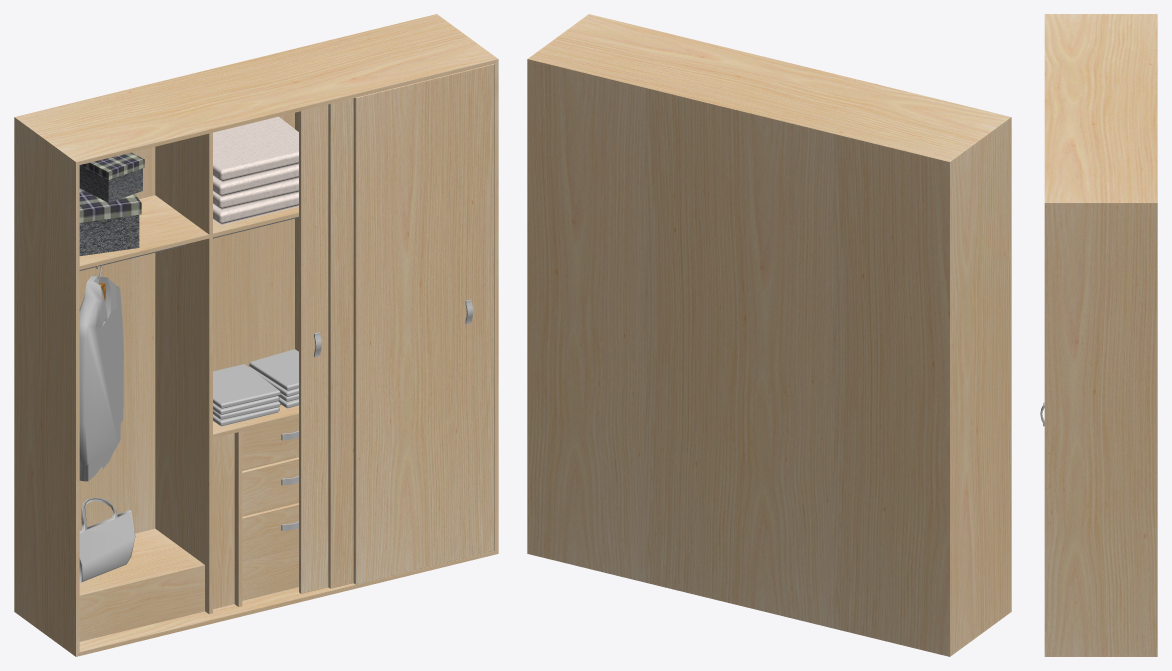
Rendered from Closet02.fbx.
3 renders of one model, left to right at view 1: azimuth 30°, elevation 25°; view 2: azimuth 150°, elevation 25°; view 3: azimuth 270°, elevation 25°, orthographic. The views are drawn at different scales.
Visible parts, largest first — view 1: polySurface28, polySurface27, polySurface26, polySurface20, polySurface29, polySurface19, polySurface11, polySurface30, polySurface44, polySurface12, polySurface22, polySurface33 (+16 smaller); view 2: polySurface28; view 3: polySurface28.
Part boxes in pixels (x1,y1,x2,y2): polySurface28: (14,14,498,656); polySurface27: (353,64,494,584); polySurface26: (79,113,294,533); polySurface20: (155,132,212,614); polySurface29: (299,104,328,593); polySurface19: (328,98,353,588); polySurface11: (79,528,204,641); polySurface30: (79,275,123,481); polySurface44: (213,116,298,182); polySurface12: (213,433,234,609); polySurface22: (79,195,209,269); polySurface33: (79,498,135,582); polySurface28: (527,14,1011,656); polySurface28: (1044,14,1157,656).
Bounding box in the file's own units: 2.27 × 2.54 × 0.5936.
